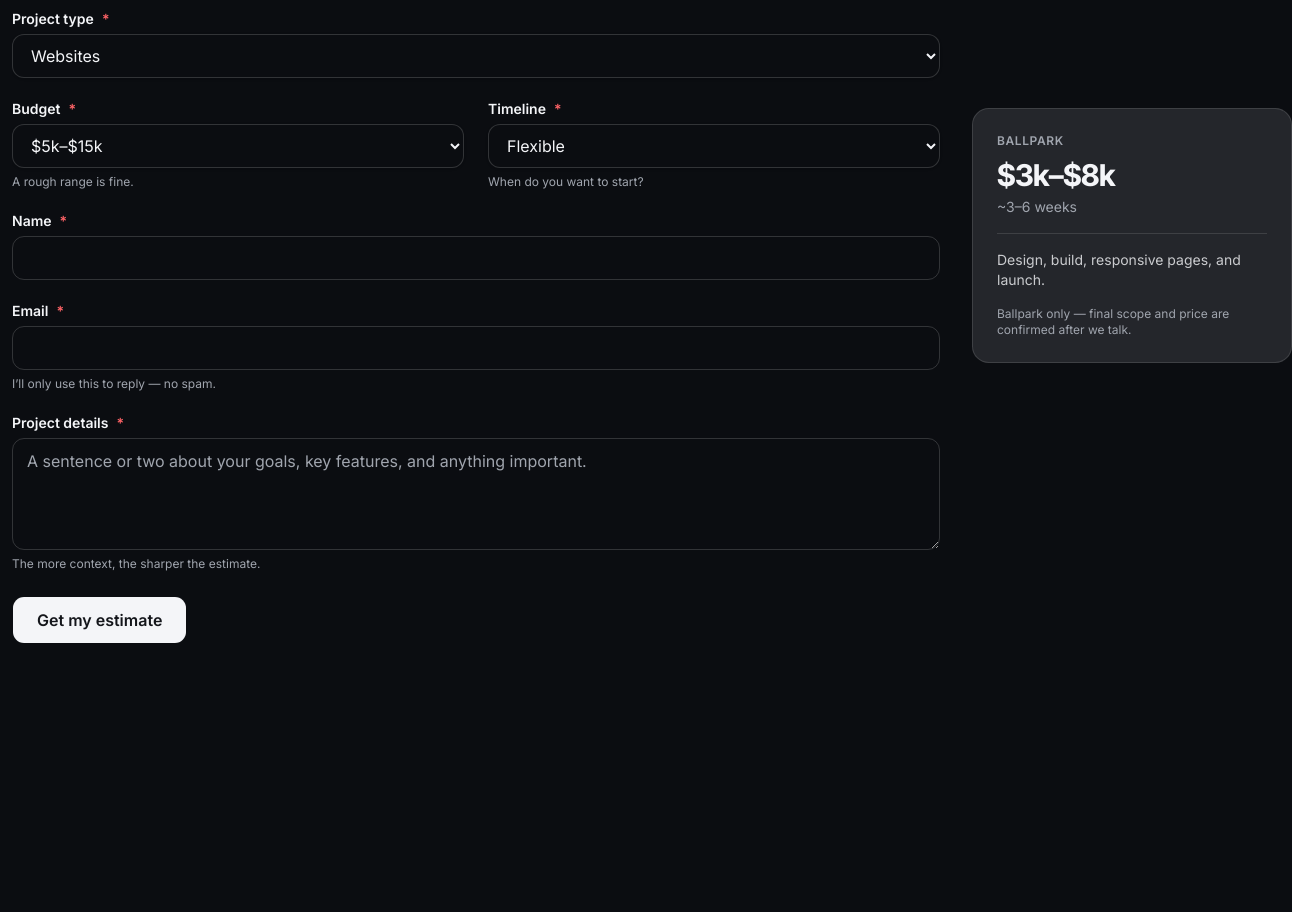
EstimatorForm › validates required fields before submitting
The width and height of the screenshot is (1292, 912).
Click the button "Get my estimate": (100, 620) 12,596 -> 187,644
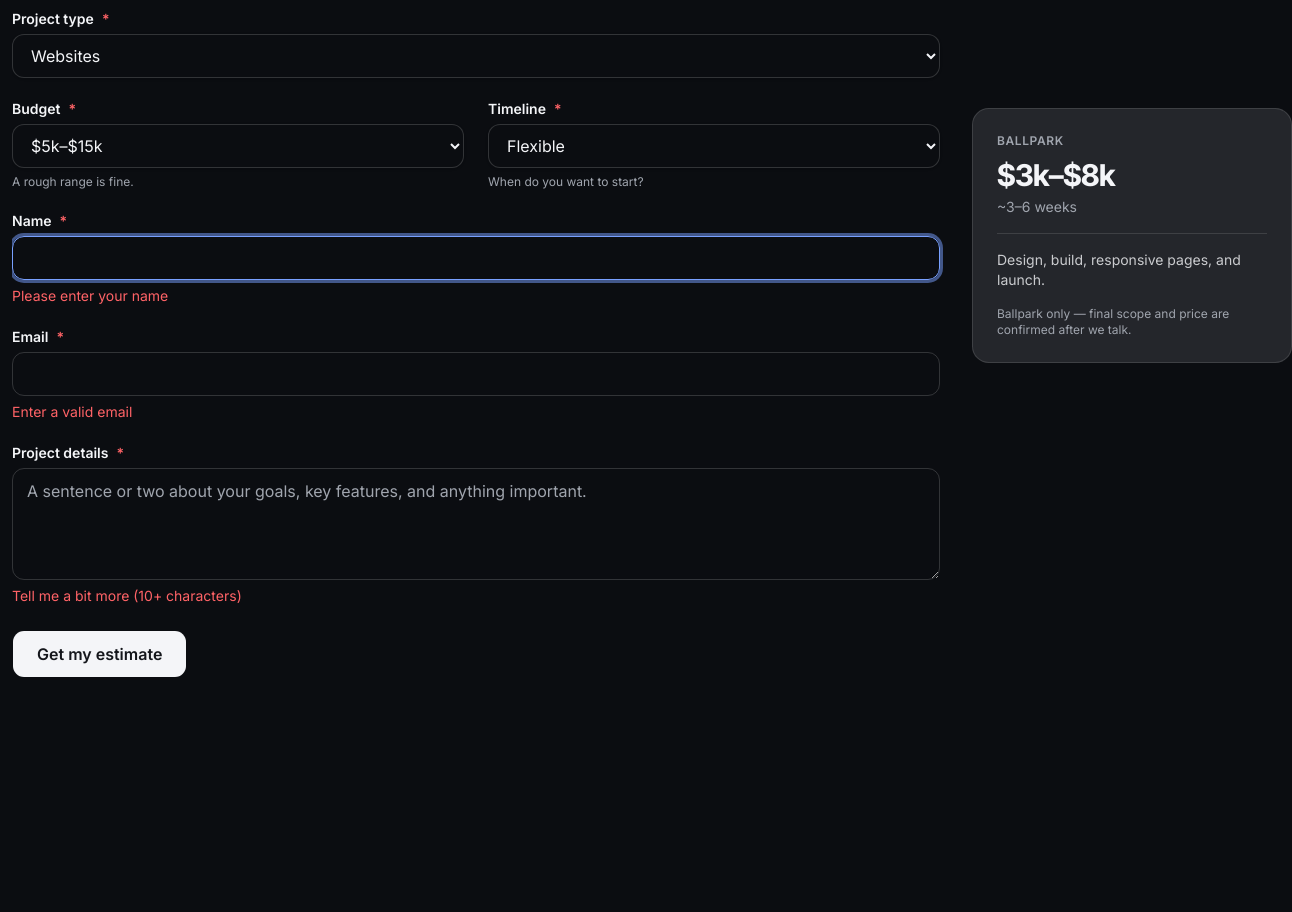
Now the text "Enter a valid email" is shown, box 12,403 -> 132,420
